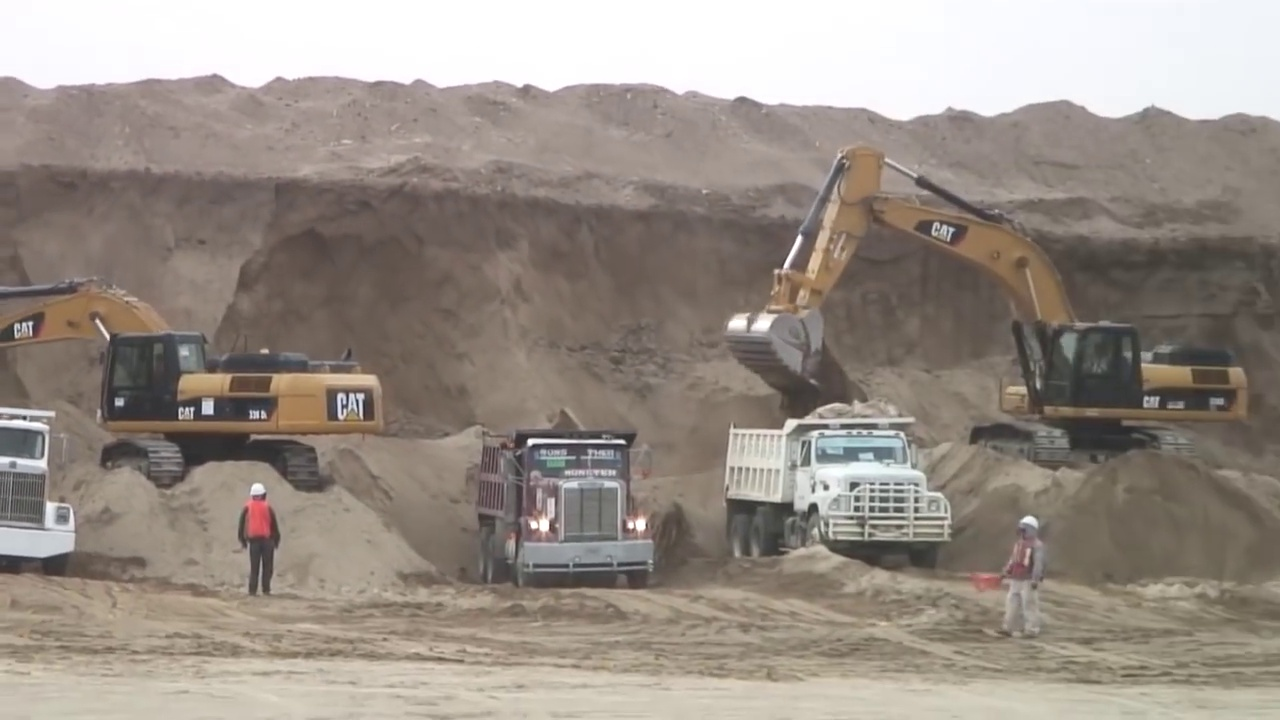excavator: (724, 144, 1251, 487), (1, 279, 386, 499)
person: (238, 483, 279, 598), (1007, 516, 1041, 639)
truck: (726, 416, 956, 569), (477, 426, 657, 583), (1, 405, 75, 574)
